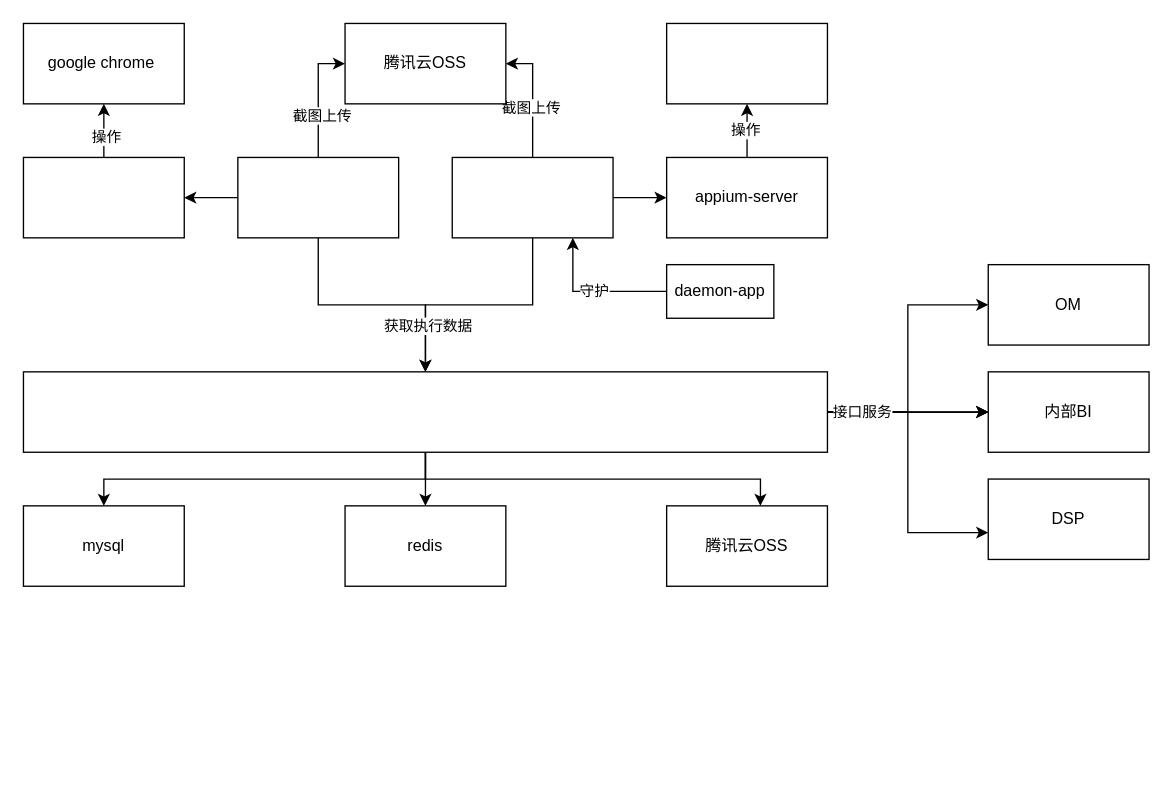
The diagram is 1173 pixels wide and 797 high, and some of its shapes have lost their labels. The centre of each missing label's shape, as x and y in pixels:
"android phone" goes at point 746,63.
"app-screenshot" goes at point 532,197.
"chrome driver" goes at point 103,197.
"pc-screenshot" goes at point 318,197.
"screenshot-service" goes at point 424,411.
